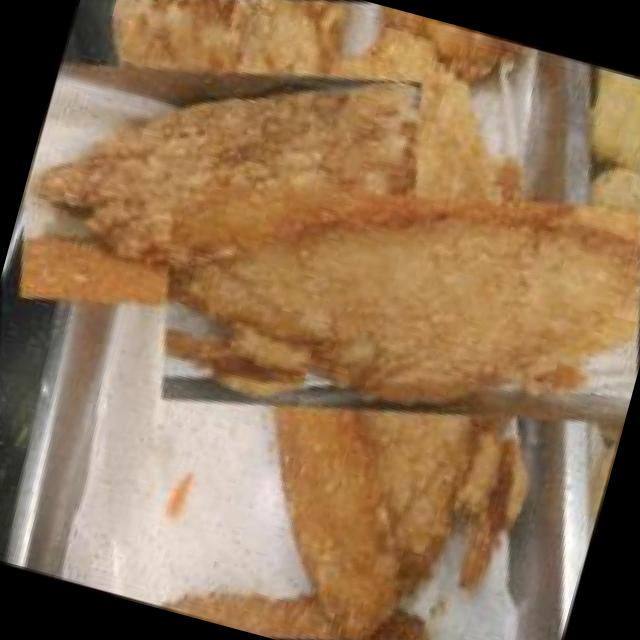chicken_nuggets: (546, 60, 640, 196)
fried_chicken: (156, 21, 640, 582), (0, 0, 453, 423)
